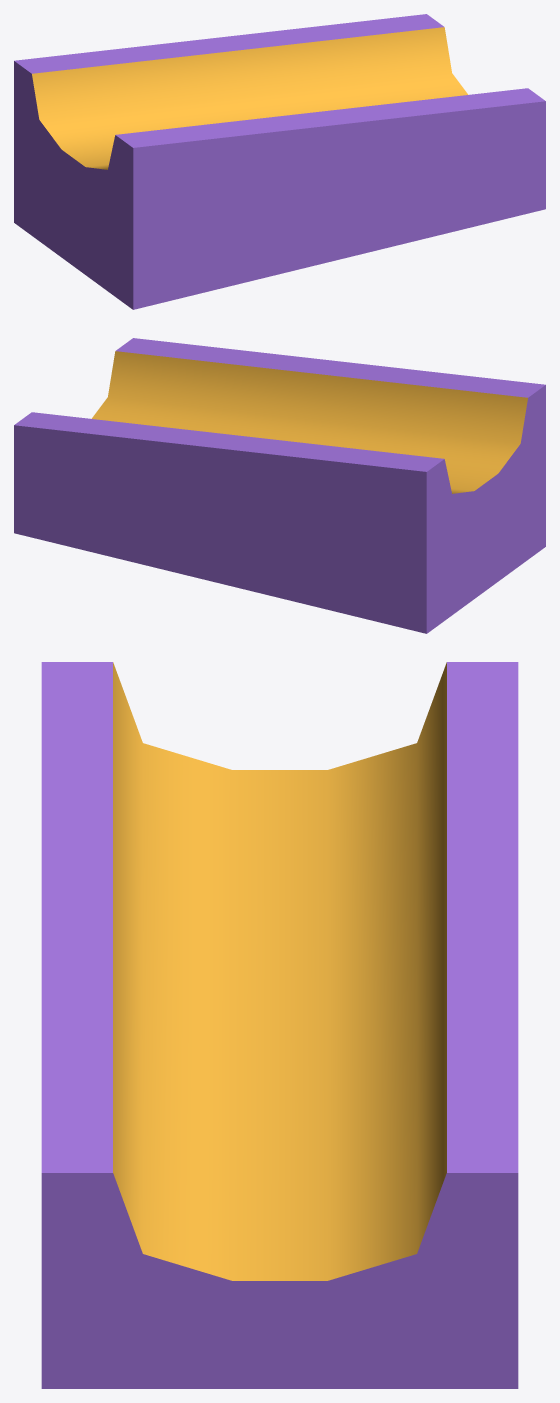
The model's file is slant-solid-long-a-col.glb.
3 views of the same model, one above another, from view 1: azimuth 30°, elevation 25°; view 2: azimuth 150°, elevation 25°; view 3: azimuth 270°, elevation 25° (orthographic). The views are drawn at different scales.
Parts seen in each view (by area): view 1: slant-solid-long-a-col; view 2: slant-solid-long-a-col; view 3: slant-solid-long-a-col.
Boxes of the visible parts, x1=… form: slant-solid-long-a-col: x1=14, y1=14, x2=545, y2=309; slant-solid-long-a-col: x1=14, y1=338, x2=545, y2=633; slant-solid-long-a-col: x1=41, y1=662, x2=518, y2=1388.
Bounding box in the file's own units: 2 × 0.75 × 1.
1 material, 1 textured.
